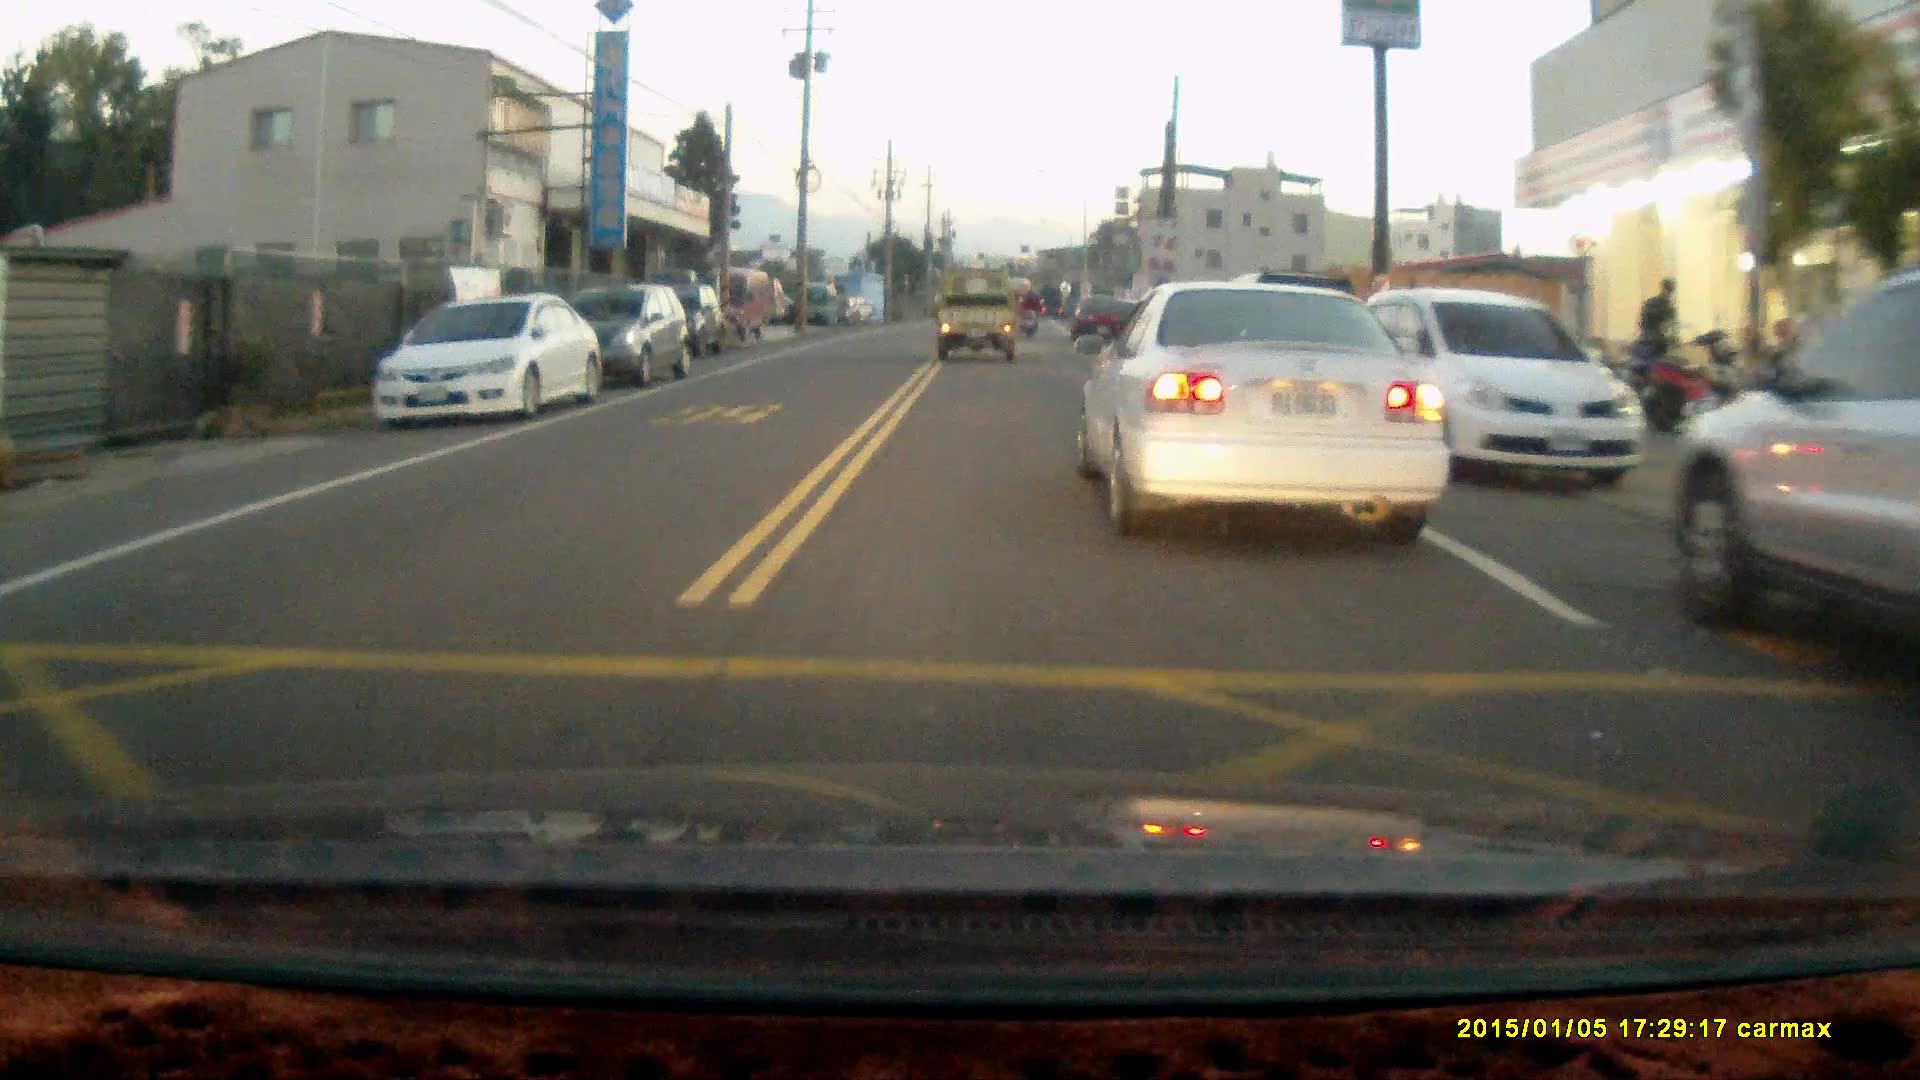pedestrian: (1635, 278, 1681, 389)
rider: (1016, 286, 1042, 334)
vehicle: (1668, 278, 1920, 742), (1084, 281, 1442, 541), (1349, 290, 1657, 496), (373, 291, 605, 431), (544, 286, 695, 397), (624, 280, 727, 364), (937, 272, 1024, 370), (708, 266, 781, 343), (1068, 292, 1131, 340)
